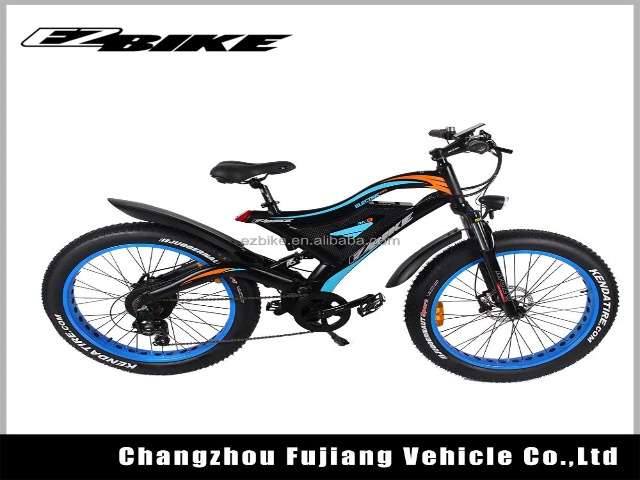bike: (32, 113, 624, 396)
